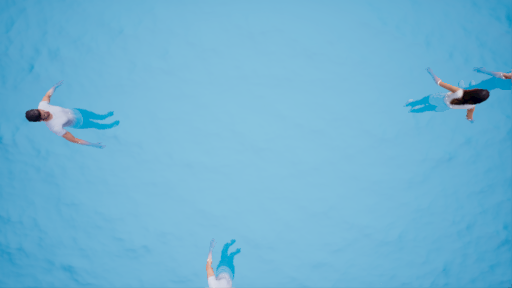person: (24, 82, 123, 147), (404, 68, 494, 124), (199, 230, 251, 288), (471, 55, 512, 91)
